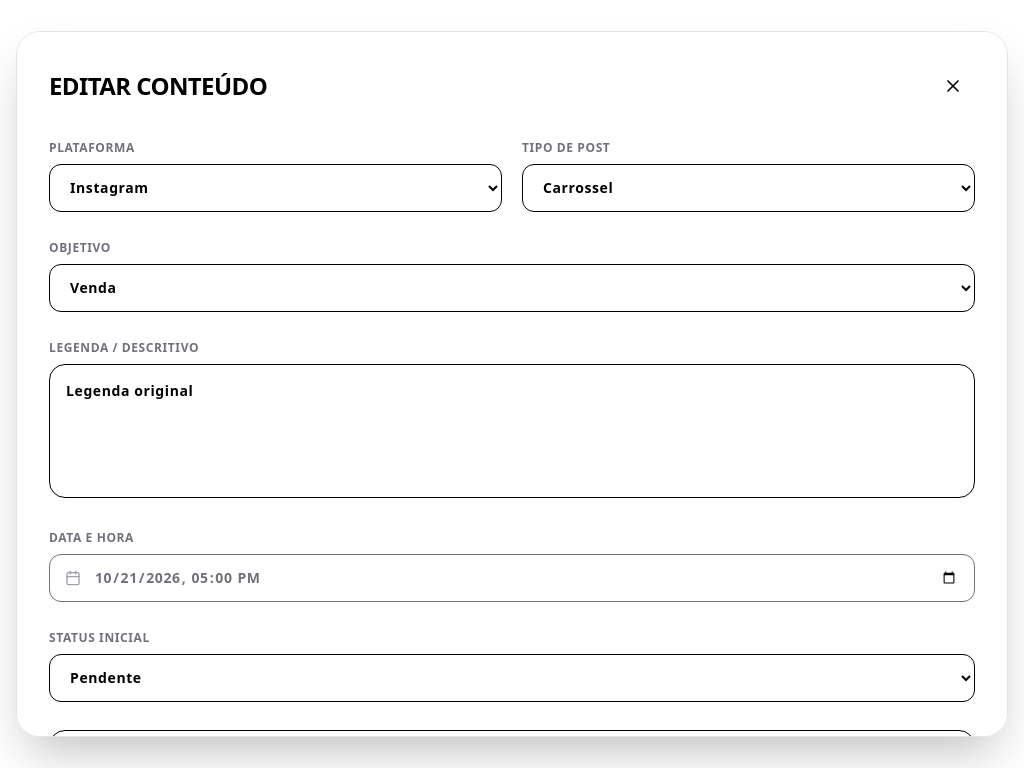
Scenario: edição: formulário, serviço, mapper e repositório reais › identifica falha em media/get-by-ids (permission-denied), sem expor conteúdo
Replace the text in the text box with "Legenda revisada" at (512, 431), box [49,364,975,498]
(page scrolled)
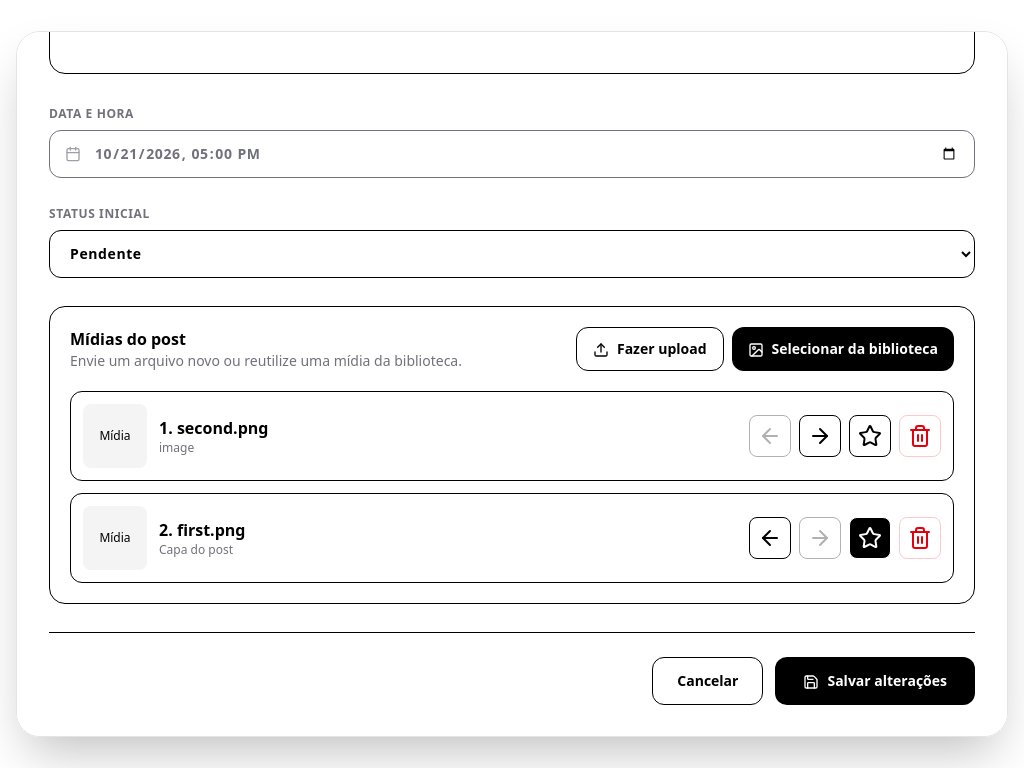
Click the button "Salvar alterações".
click(875, 681)  # box [775,657,975,705]
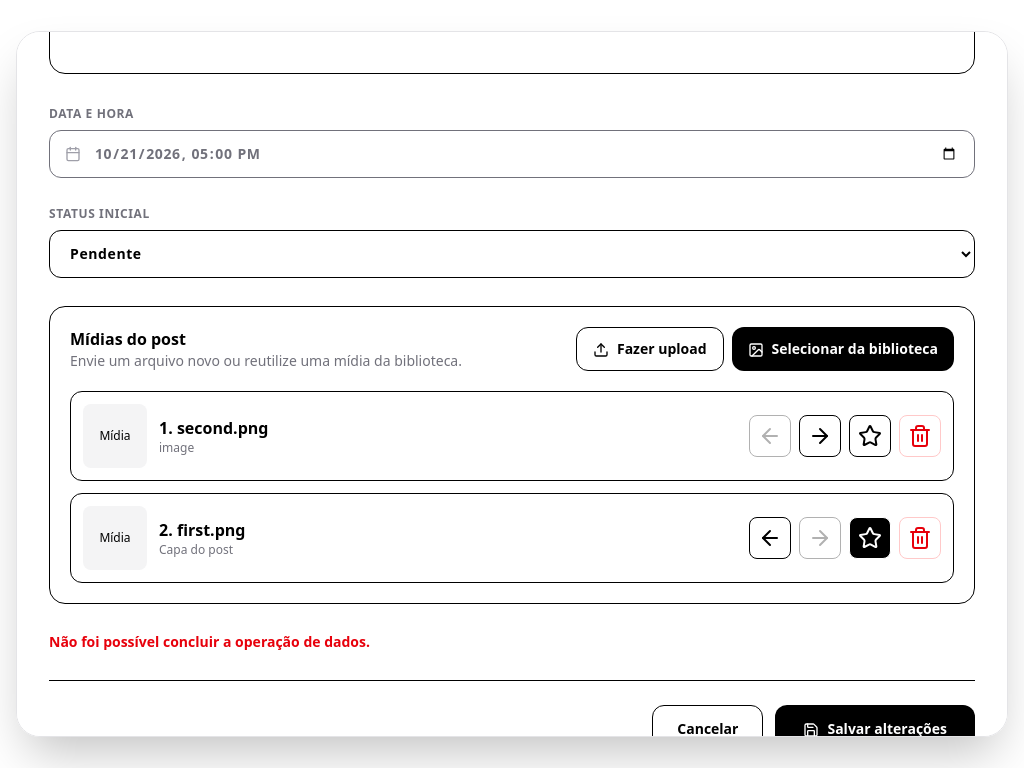
Expected: the button "Salvar alterações" is enabled, [775,705,975,737]
Expected: the message reads "Não foi possível concluir a operação de dados.", [49,632,370,651]
